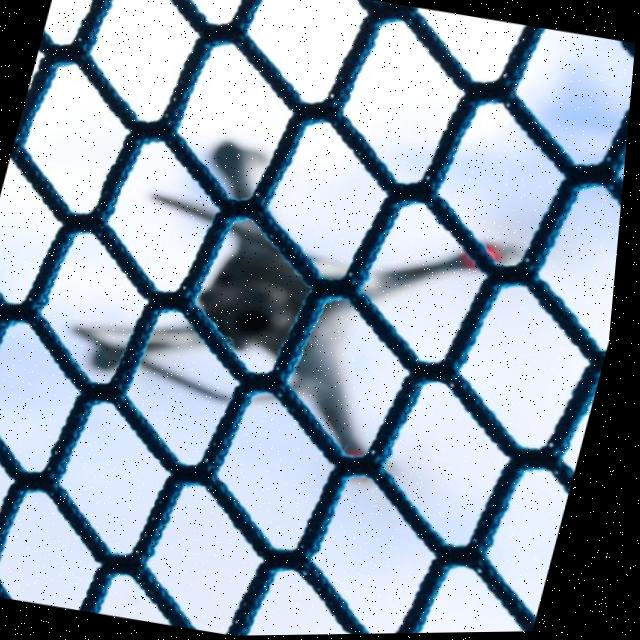drones: (29, 98, 525, 519)
